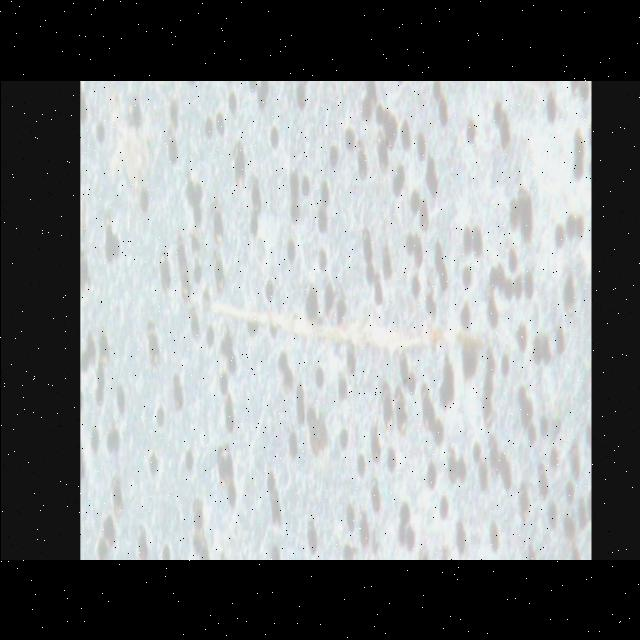Fibre: (186, 256, 494, 386)
